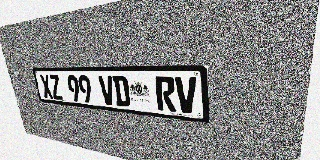9: (77, 75, 94, 103), (66, 75, 82, 102)
D: (112, 76, 131, 107)
R: (155, 76, 176, 112)
V: (175, 76, 197, 114), (98, 75, 116, 106)
X: (39, 75, 54, 99)
Z: (48, 75, 63, 100)
